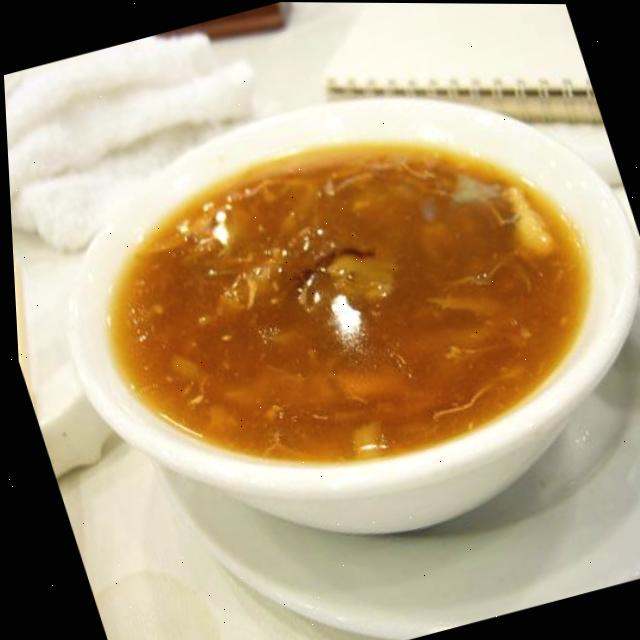汤锅炖物: (38, 43, 640, 551)
